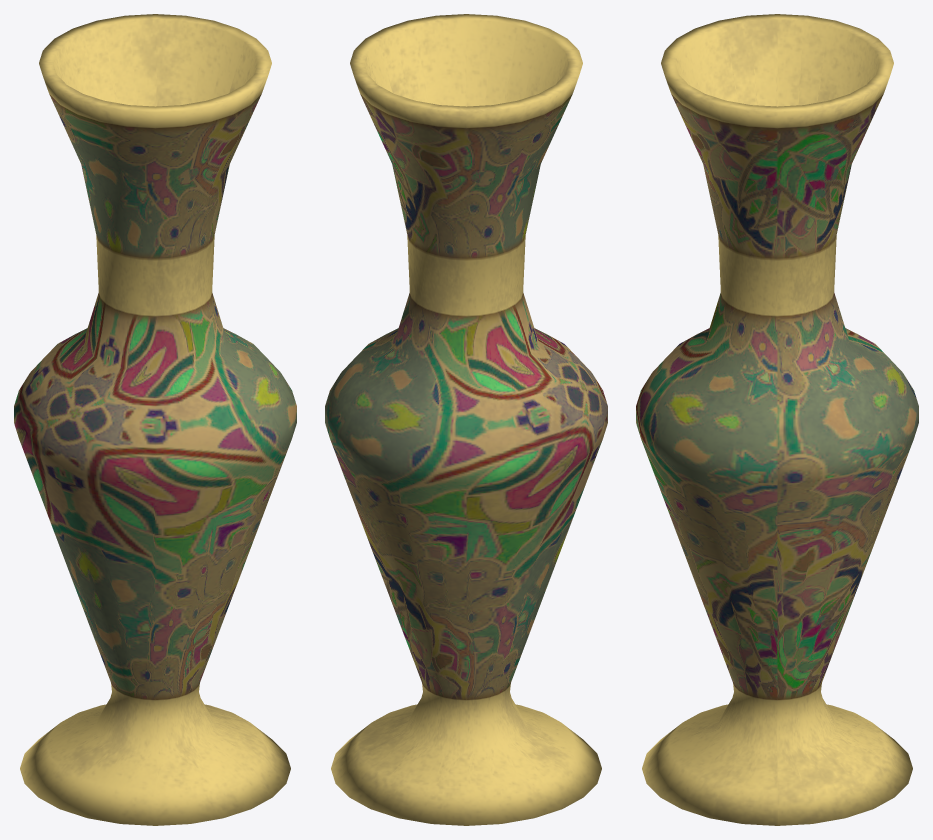
The model's file is SM_Vase_02.fbx.
3 renders of one model, left to right at view 1: azimuth 30°, elevation 25°; view 2: azimuth 150°, elevation 25°; view 3: azimuth 270°, elevation 25°, orthographic.
Parts seen in each view (by area): view 1: SM_Vase_02_LOD0; view 2: SM_Vase_02_LOD0; view 3: SM_Vase_02_LOD0.
Boxes of the visible parts, x1,y1,x2,y2 form: SM_Vase_02_LOD0: (14, 14, 296, 825); SM_Vase_02_LOD0: (325, 14, 607, 825); SM_Vase_02_LOD0: (636, 14, 918, 825).
Size of the model in its own units: 27.69 by 27.69 by 76.2.
